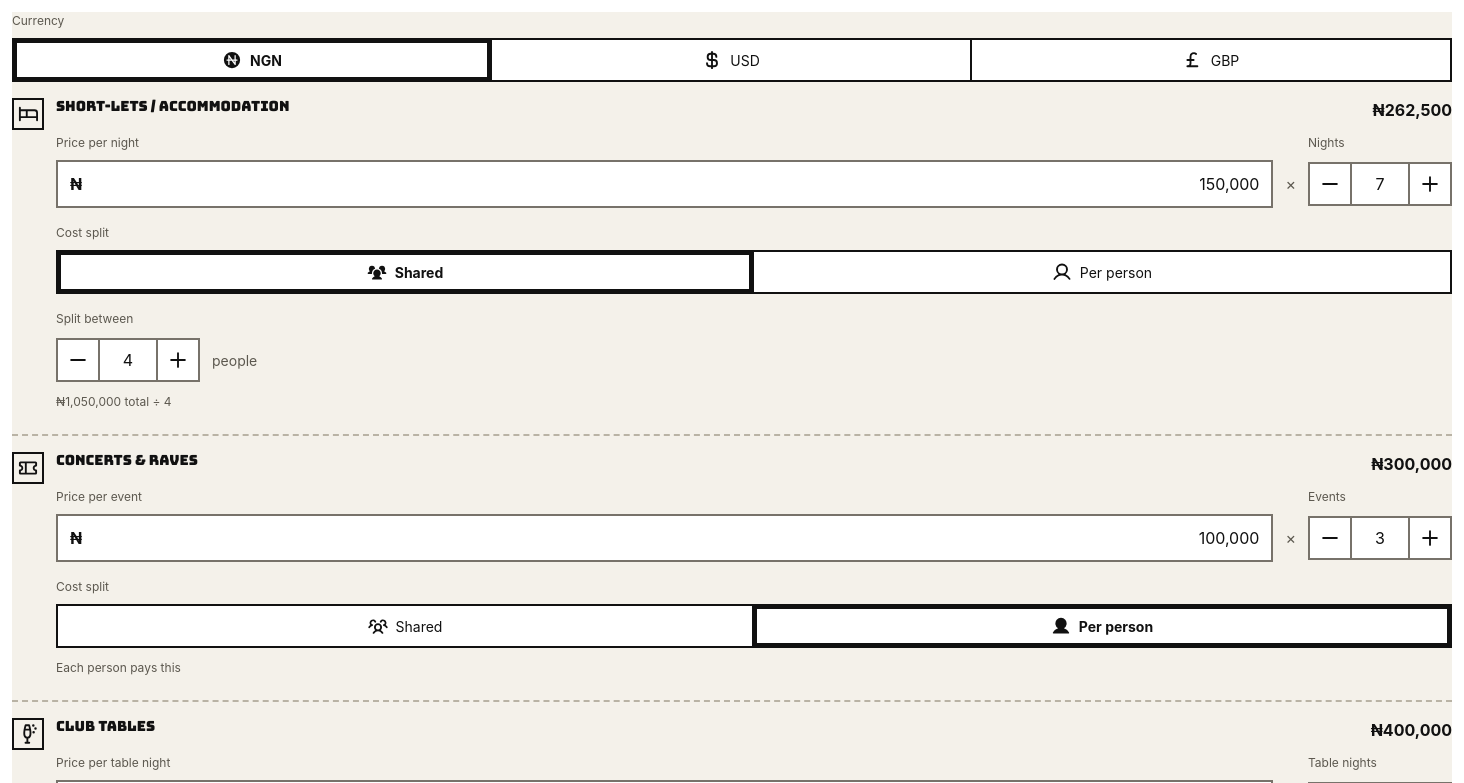
Scenario: CurrencyControl › converts every amount to dollars: lines, totals and the formula
The width and height of the screenshot is (1464, 783).
Click the text "USD": (731, 60) [490, 38, 972, 82]
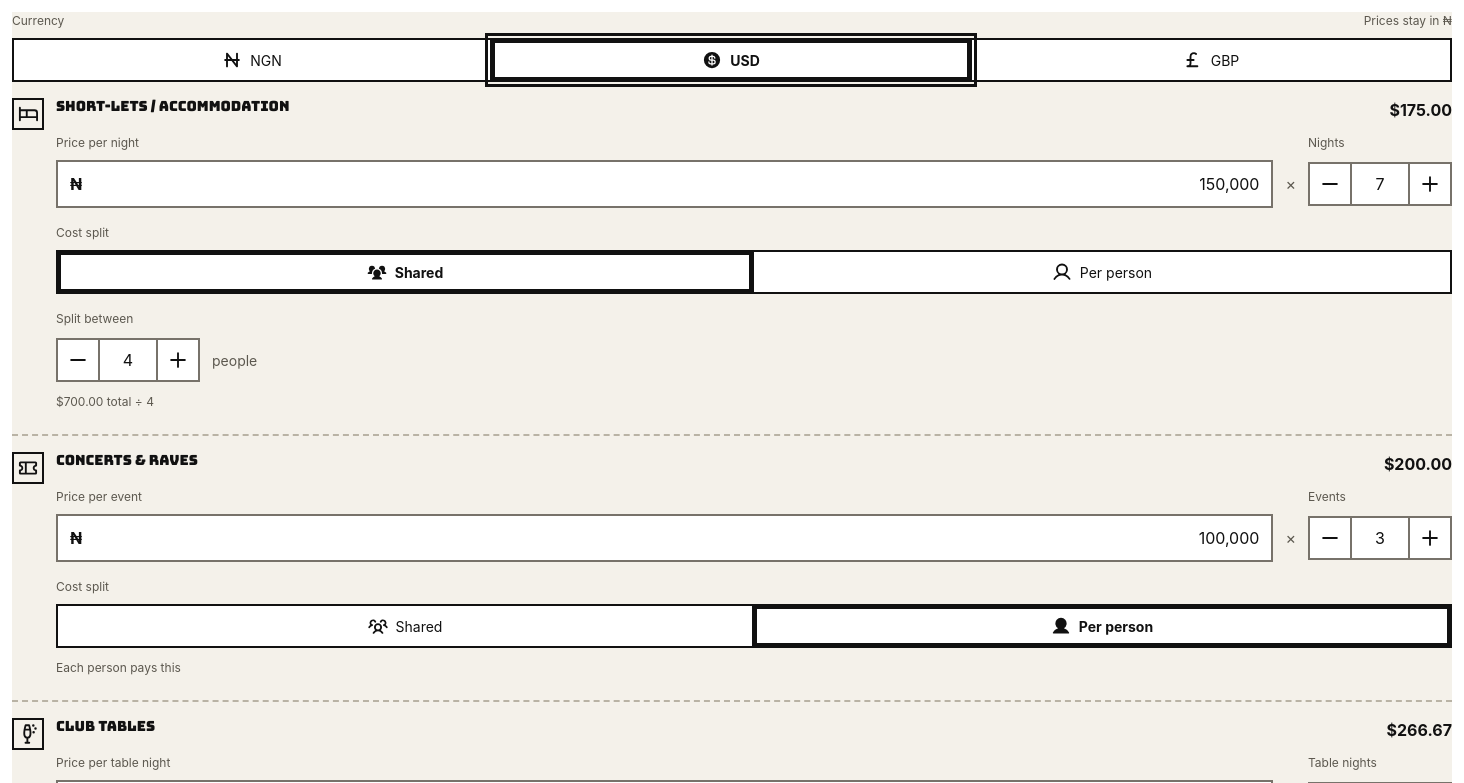
Now the radio button labelled "USD" is checked, box [490, 38, 972, 82]
Now the text "$700.00 total ÷ 4" is shown, box [56, 394, 154, 409]
